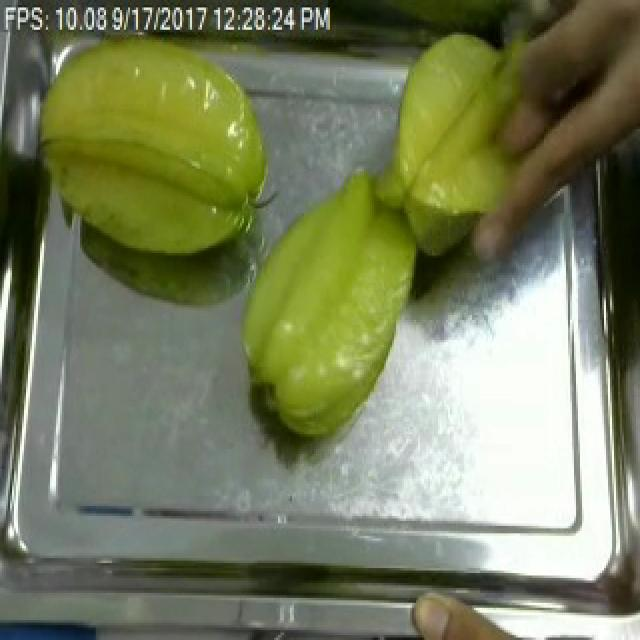fruit: (22, 15, 282, 270), (226, 158, 428, 446), (376, 20, 572, 226), (402, 585, 552, 640)
